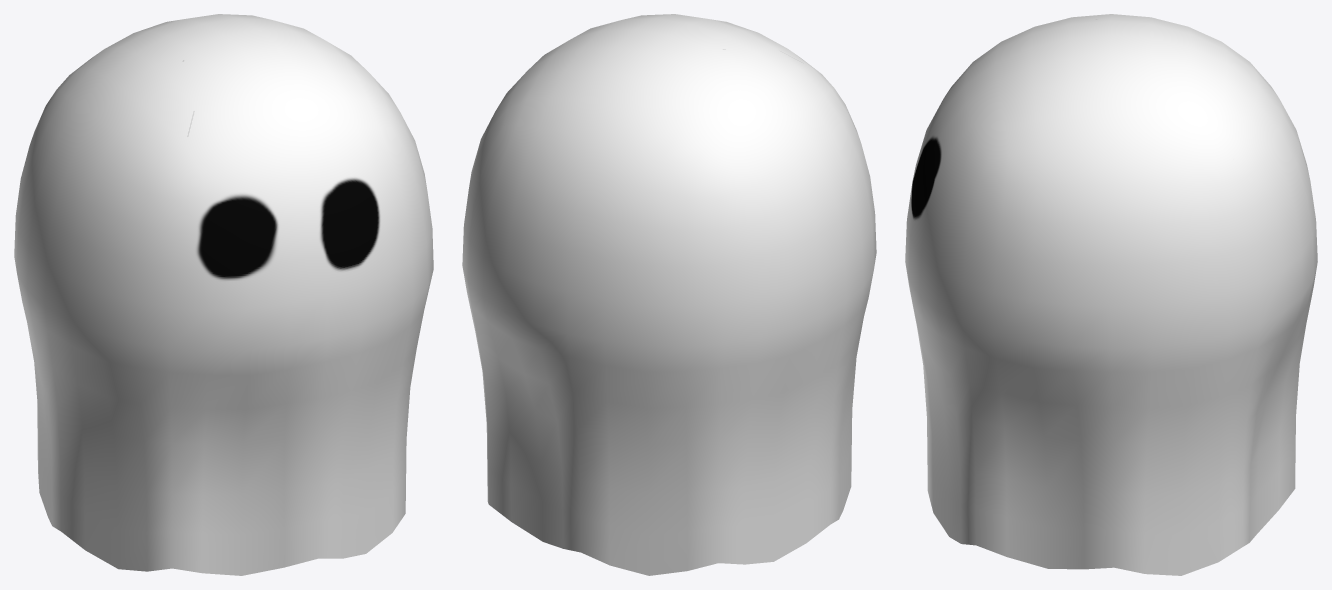
File: Ghost.fbx
The picture shows the model from 3 angles, left to right: view 1: azimuth 30°, elevation 25°; view 2: azimuth 150°, elevation 25°; view 3: azimuth 270°, elevation 25°; orthographic projection.
Visible parts, largest first — view 1: Cube; view 2: Cube; view 3: Cube.
Boxes of the visible parts, x1,y1,x2,y2 form: Cube: [14, 14, 433, 575]; Cube: [462, 14, 876, 575]; Cube: [905, 14, 1317, 575].
Size of the model in its own units: 164 by 207 by 164.
Materials: 1 (1 with a texture image).
